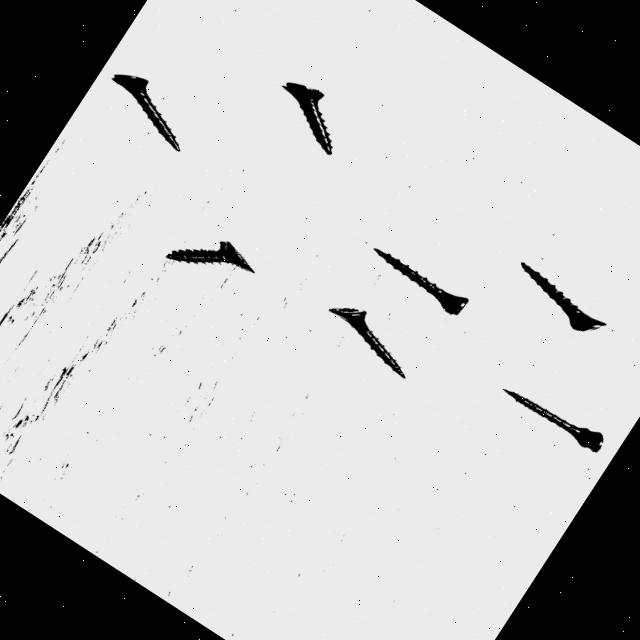Screw: (505, 389, 605, 454), (375, 248, 469, 315), (523, 263, 606, 332), (329, 308, 406, 379), (111, 74, 180, 151), (283, 82, 332, 155), (166, 242, 254, 274)
